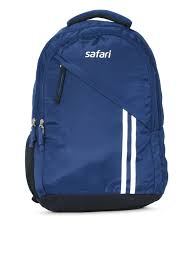backpack: (24, 9, 168, 212)
